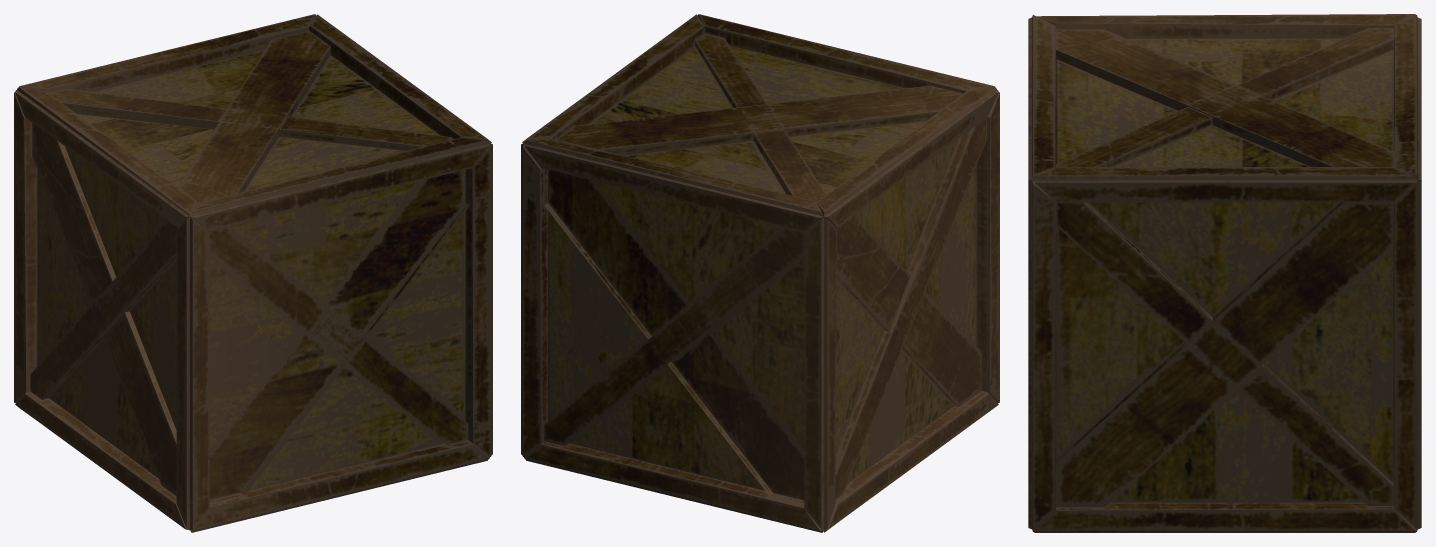
The picture shows the model from 3 angles, left to right: view 1: azimuth 30°, elevation 25°; view 2: azimuth 150°, elevation 25°; view 3: azimuth 270°, elevation 25°; orthographic projection. The views are drawn at different scales.
Parts seen in each view (by area): view 1: Crate lp.001; view 2: Crate lp.001; view 3: Crate lp.001.
Part boxes in pixels (x1,y1,x2,y2): Crate lp.001: (14, 14, 492, 532); Crate lp.001: (521, 14, 999, 532); Crate lp.001: (1028, 14, 1421, 532).
Size of the model in its own units: 2.04 by 2.04 by 2.04.
1 material, 1 textured.
